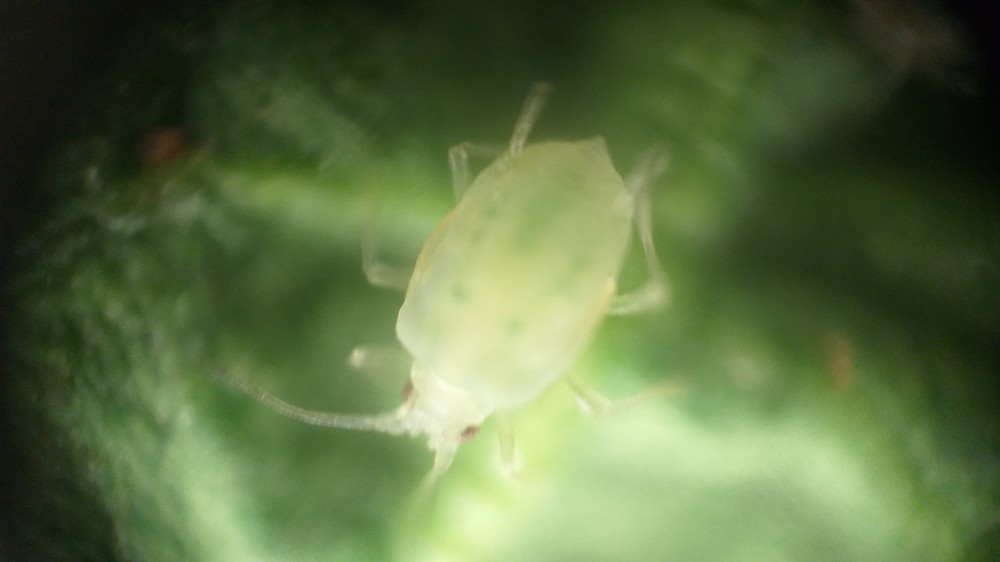Pulgon: (230, 66, 738, 557)
